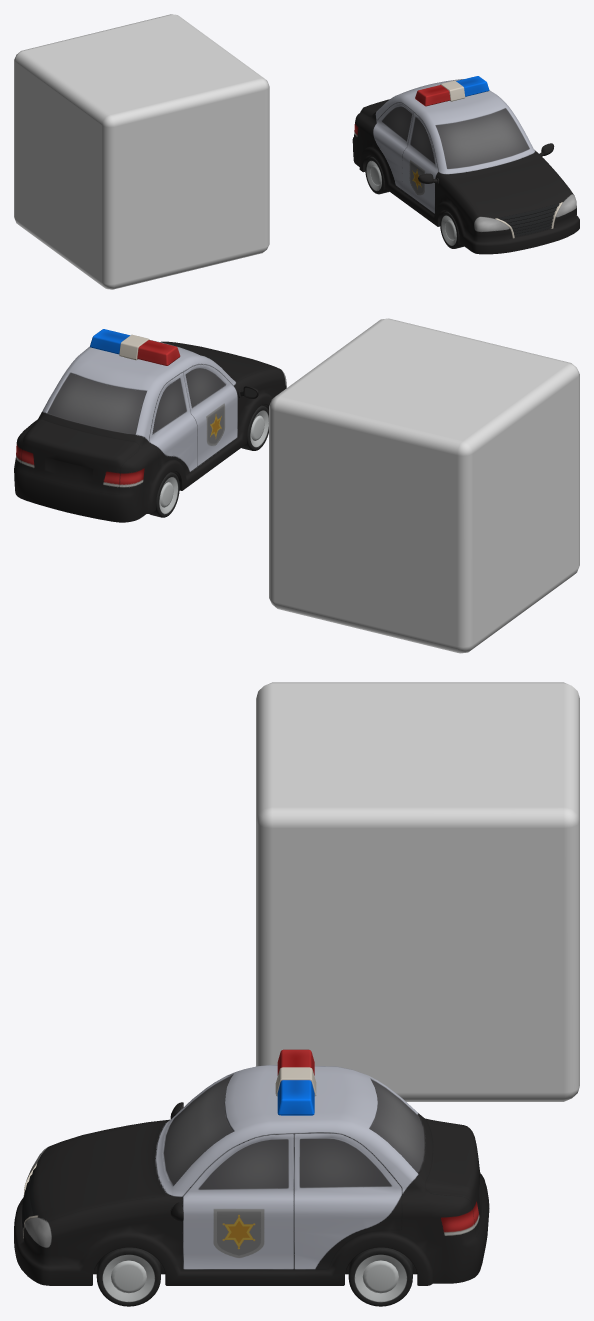
The model's file is car.dae.
3 renders of one model, top to bottom at view 1: azimuth 30°, elevation 25°; view 2: azimuth 150°, elevation 25°; view 3: azimuth 270°, elevation 25°, orthographic. The views are drawn at different scales.
Visible parts, largest first — view 1: Generated, icon_policecar_base_stylized_lod0; view 2: Generated, icon_policecar_base_stylized_lod0; view 3: Generated, icon_policecar_base_stylized_lod0.
Part boxes in pixels (x1,y1,x2,y2): Generated: (14,14,269,289); icon_policecar_base_stylized_lod0: (352,76,579,254); Generated: (269,318,579,653); icon_policecar_base_stylized_lod0: (14,329,286,522); Generated: (256,682,579,1101); icon_policecar_base_stylized_lod0: (14,1049,489,1306).
Size of the model in its own units: 0.2552 by 0.1 by 0.1748.
Materials: 2 (1 with a texture image).
